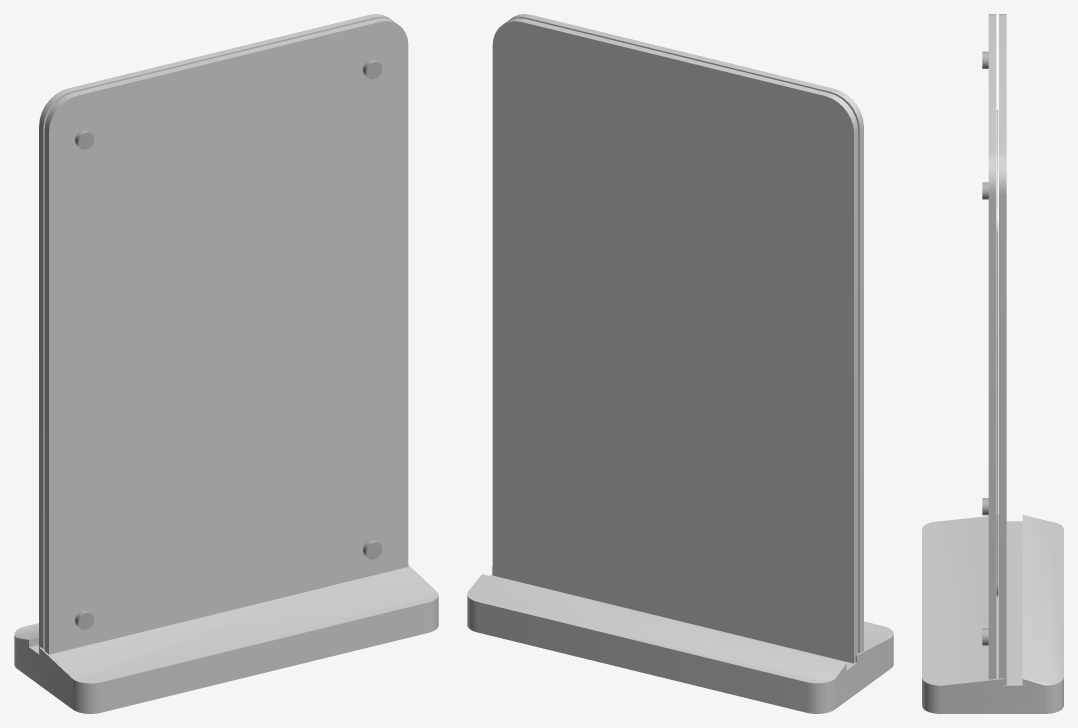
3 renders of one model, left to right at view 1: azimuth 30°, elevation 25°; view 2: azimuth 150°, elevation 25°; view 3: azimuth 270°, elevation 25°, orthographic. The views are drawn at different scales.
Parts seen in each view (by area): view 1: 3d66-Editable_mesh-19351335-001, 3d66-PolyMeshObject-19351335-001, 3d66-Editable_mesh-19351335-002; view 2: 3d66-Editable_mesh-19351335-002, 3d66-PolyMeshObject-19351335-001, 3d66-Editable_mesh-19351335-001; view 3: 3d66-PolyMeshObject-19351335-001, 3d66-Editable_mesh-19351335-001, 3d66-Editable_mesh-19351335-002, 3d66-Editable_mesh-19351335-003.
Boxes of the visible parts, <box> form: 3d66-Editable_mesh-19351335-001: <box>44,18,408,654</box>; 3d66-PolyMeshObject-19351335-001: <box>14,565,438,713</box>; 3d66-Editable_mesh-19351335-002: <box>39,14,392,652</box>; 3d66-Editable_mesh-19351335-002: <box>492,18,858,663</box>; 3d66-PolyMeshObject-19351335-001: <box>467,566,893,713</box>; 3d66-Editable_mesh-19351335-001: <box>509,14,863,652</box>; 3d66-PolyMeshObject-19351335-001: <box>922,514,1063,713</box>; 3d66-Editable_mesh-19351335-001: <box>988,14,996,679</box>; 3d66-Editable_mesh-19351335-002: <box>999,14,1006,684</box>; 3d66-Editable_mesh-19351335-003: <box>996,110,998,596</box>.
Size of the model in its own units: 1.01 by 1.56 by 0.3673.
3 materials, 1 textured.
